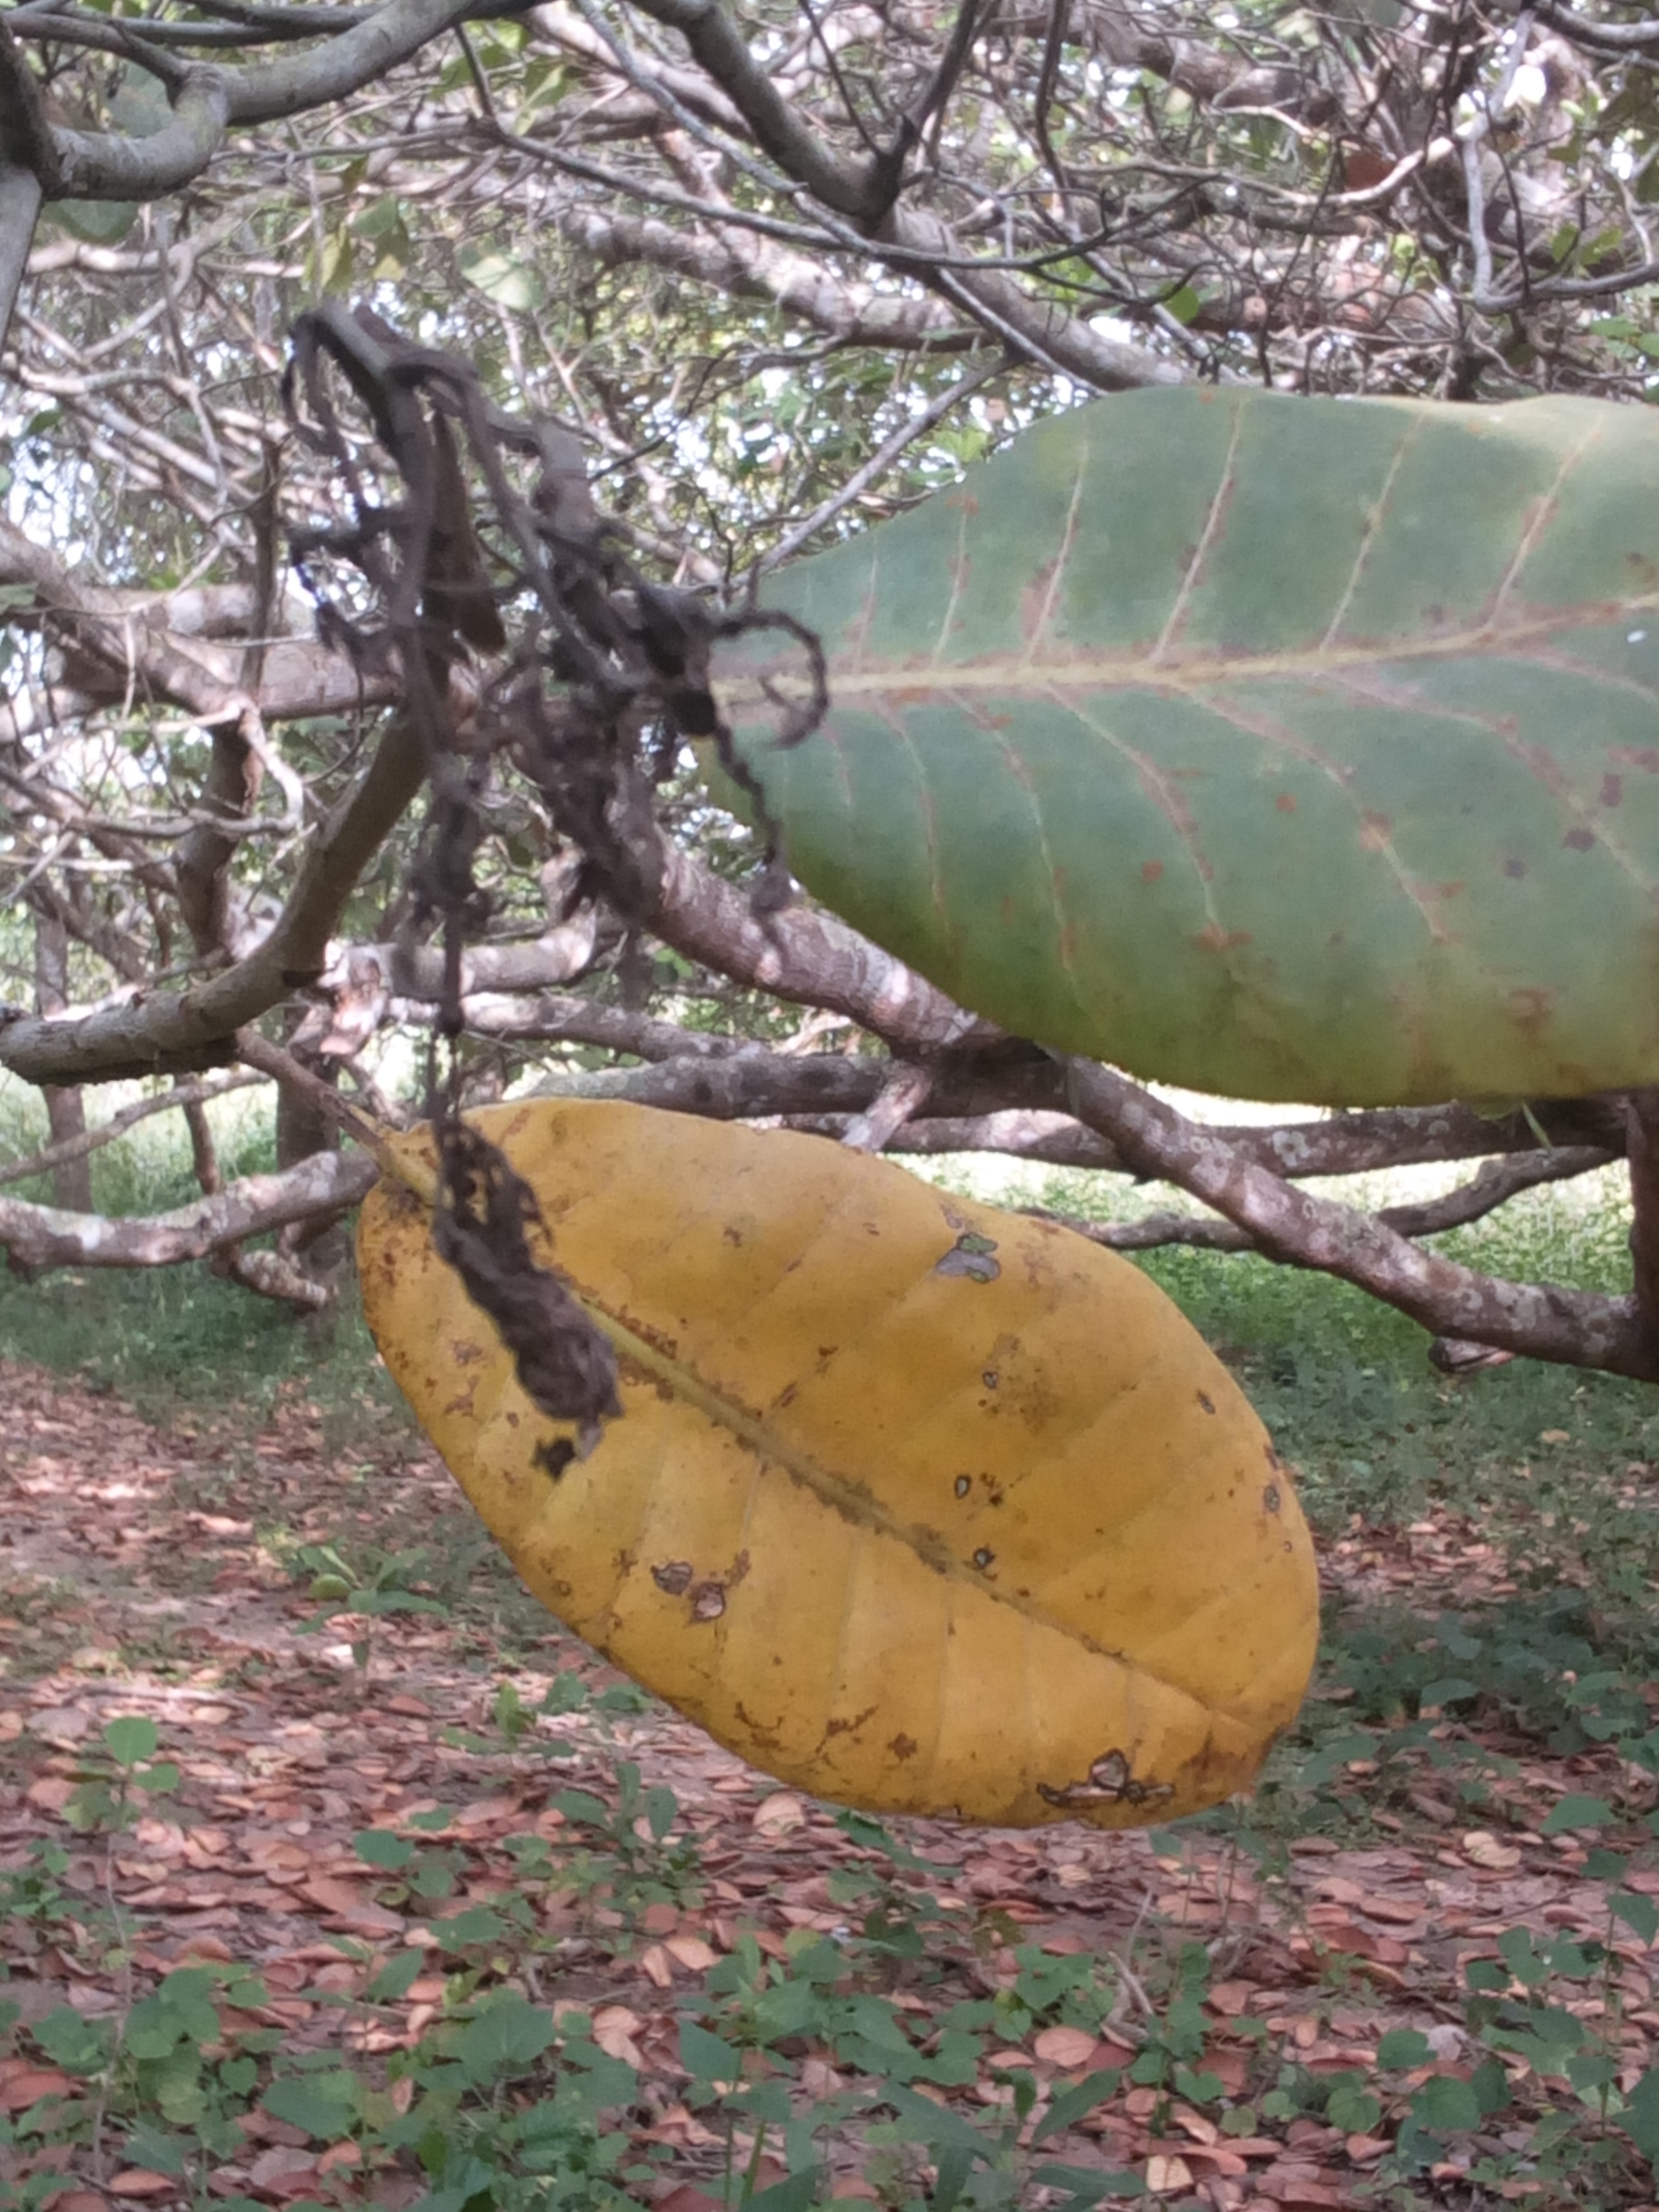Bactériose: (335, 1113, 1317, 1820), (741, 385, 1659, 1099)
